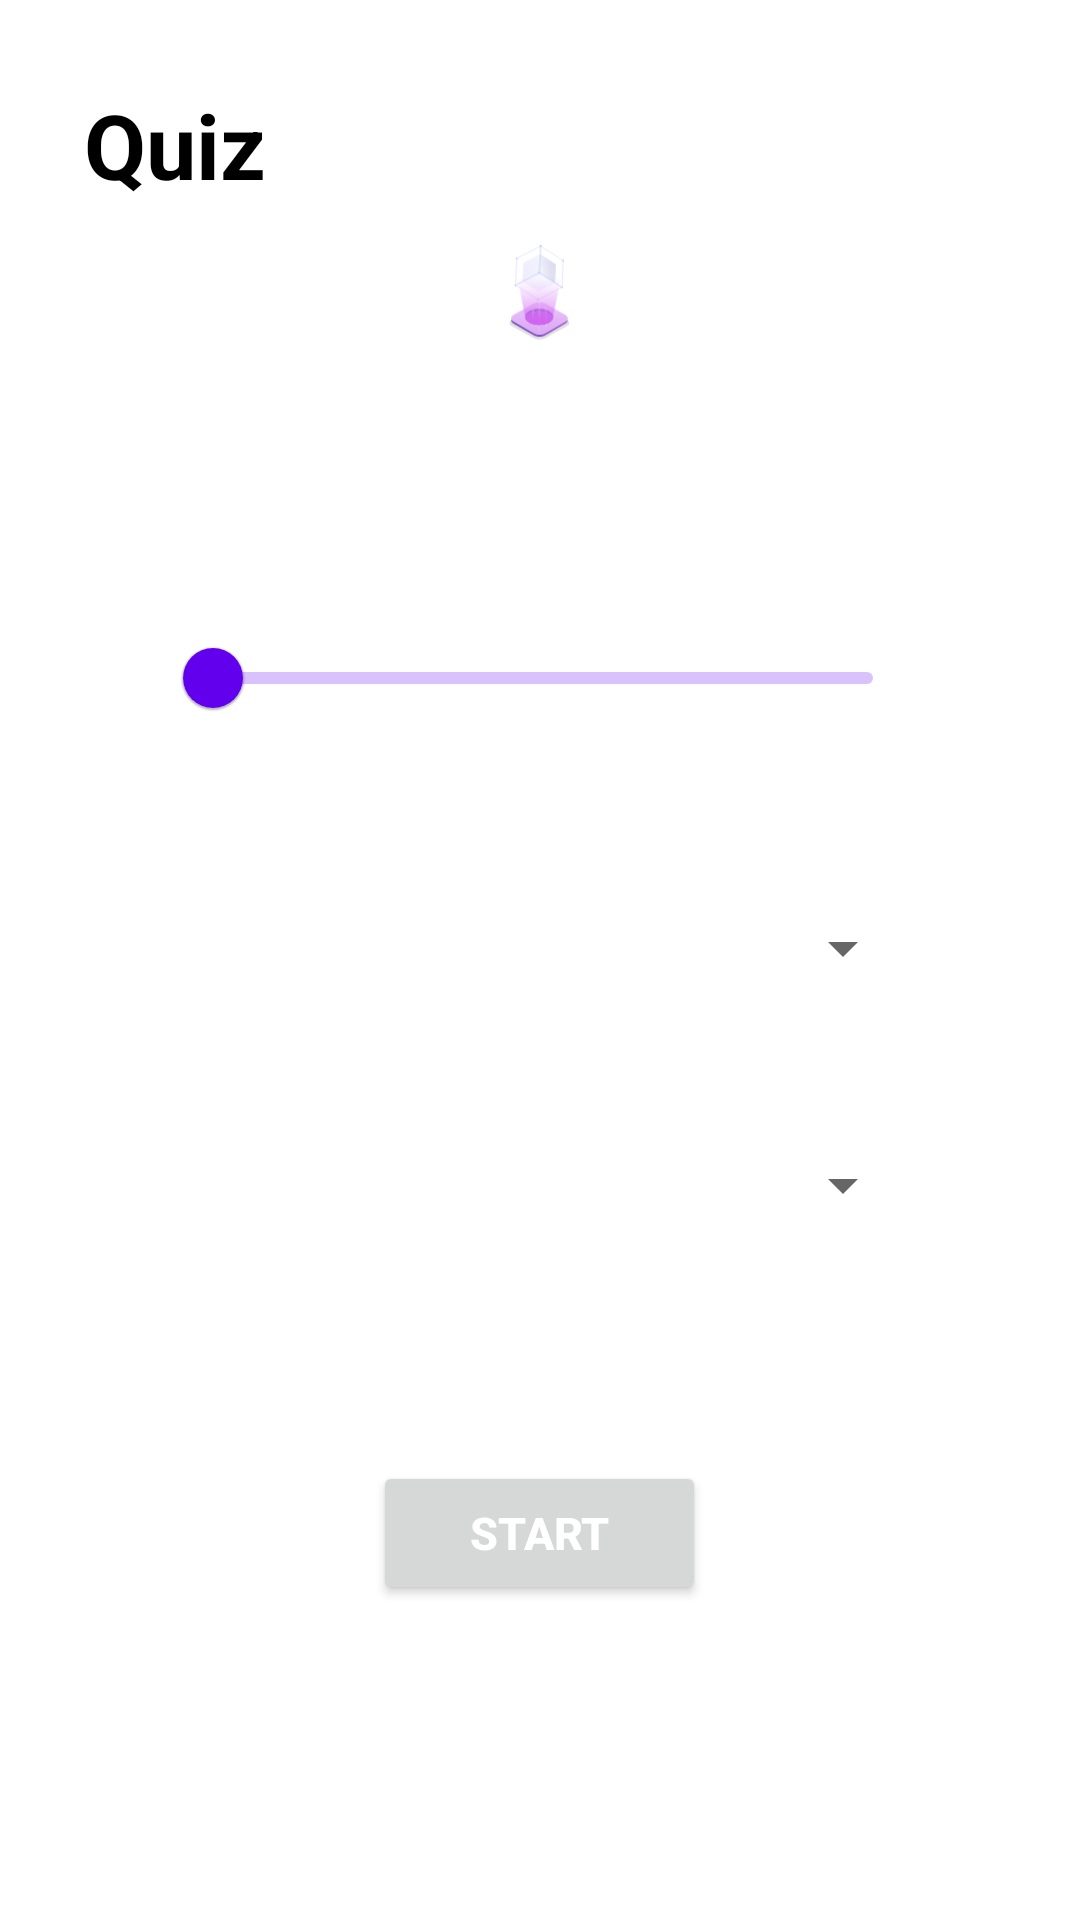

Named icons in this screenshot (1080px x 1920px) and their bounding boxes, (x1, y1, x2, y2):
ar tut: (510, 245, 569, 339)
